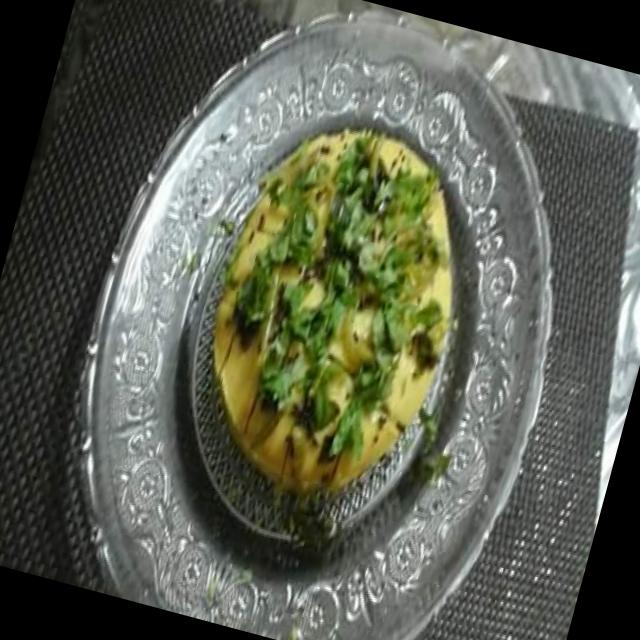dhokla: (178, 107, 488, 514)
